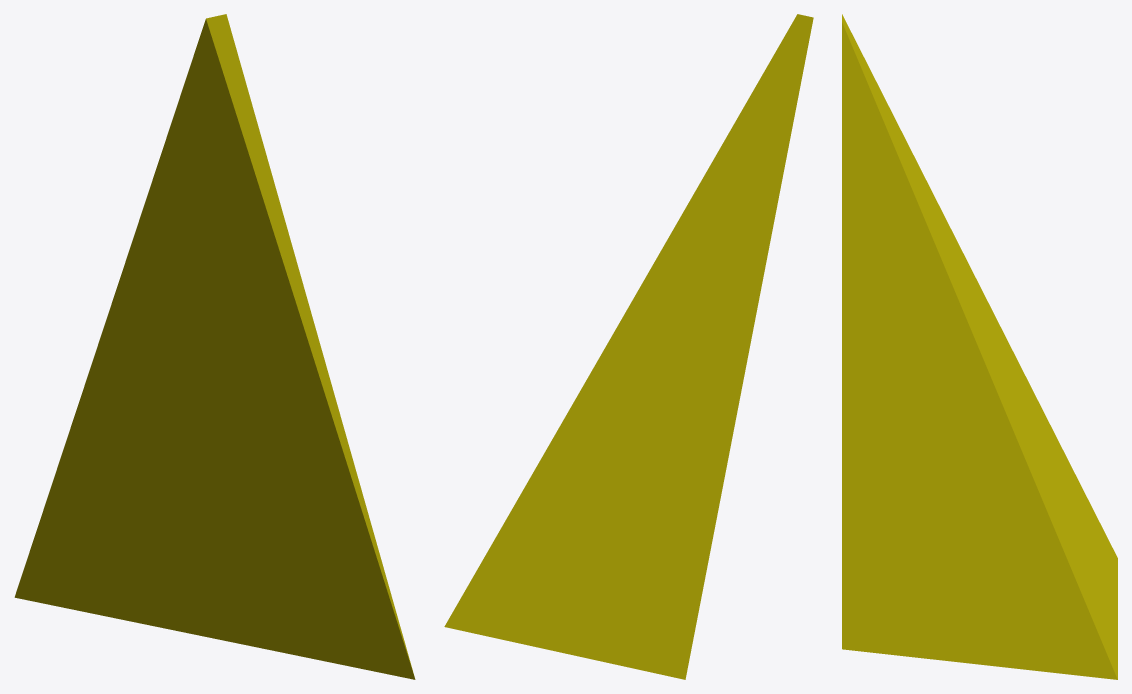
Rendered from garden_table_convex_piece_016.obj.
The picture shows the model from 3 angles, left to right: view 1: azimuth 30°, elevation 25°; view 2: azimuth 150°, elevation 25°; view 3: azimuth 270°, elevation 25°; orthographic projection. The views are drawn at different scales.
Size of the model in its own units: 0.0344 by 0.0767 by 0.0345.
